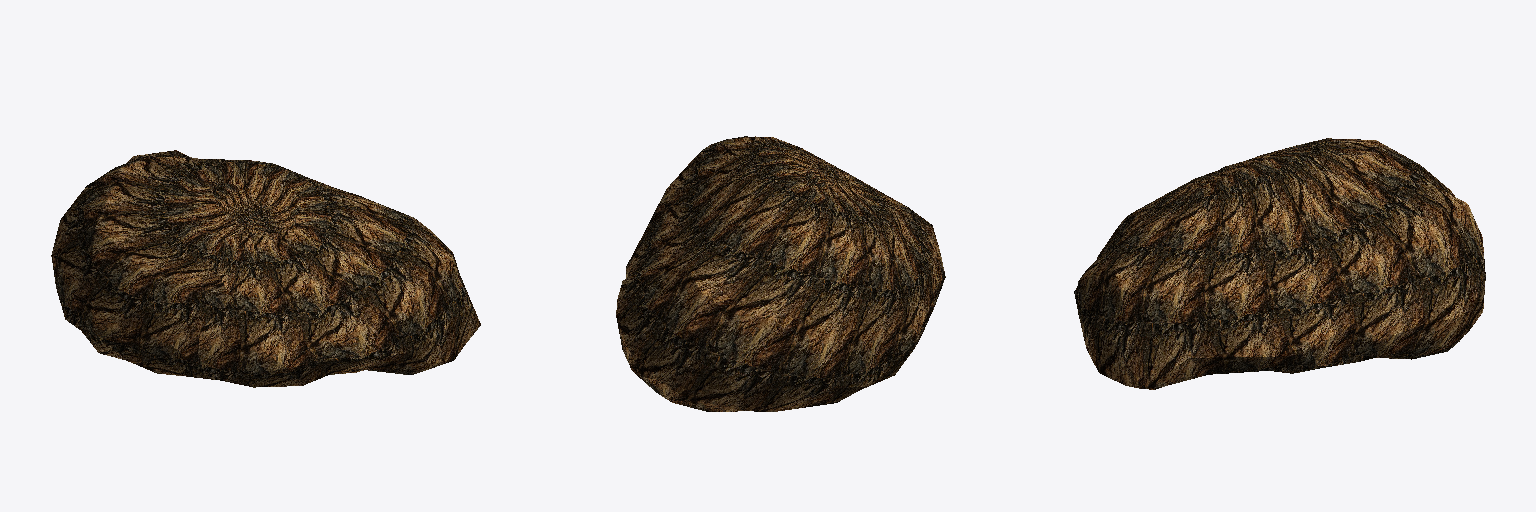
The picture shows the model from 3 angles: view 1: azimuth 30°, elevation 25°; view 2: azimuth 150°, elevation 25°; view 3: azimuth 270°, elevation 25°; orthographic projection.
Parts seen in each view (by area): view 1: Icosphere; view 2: Icosphere; view 3: Icosphere.
Part boxes in pixels (x1,y1,x2,y2): Icosphere: (51,150,480,387); Icosphere: (616,136,945,411); Icosphere: (1074,138,1485,389).
Size of the model in its own units: 5.11 by 2.92 by 5.83.
Materials: 1 (1 with a texture image).